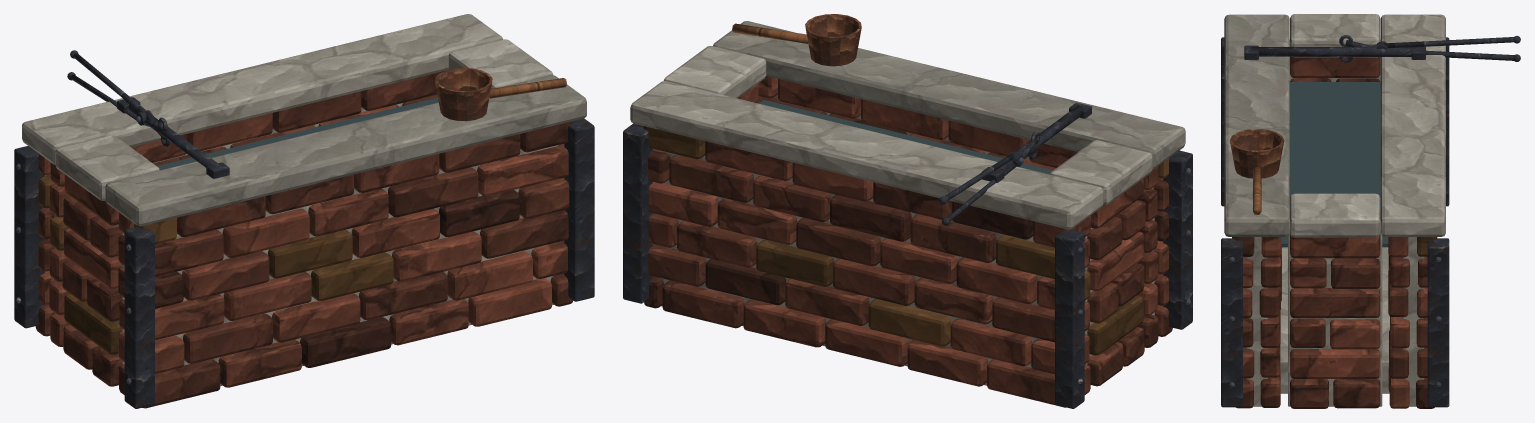
The model's file is ef_quench_trough.glb.
3 renders of one model, left to right at view 1: azimuth 30°, elevation 25°; view 2: azimuth 150°, elevation 25°; view 3: azimuth 270°, elevation 25°, orthographic. The views are drawn at different scales.
Parts seen in each view (by area): view 1: model; view 2: model; view 3: model.
Part boxes in pixels (bbox=[...]): model: bbox=[14, 14, 594, 408]; model: bbox=[623, 14, 1192, 408]; model: bbox=[1221, 14, 1520, 408].
Bounding box in the file's own units: 1.39 × 0.687 × 0.825.
Materials: 15 (14 with a texture image).
